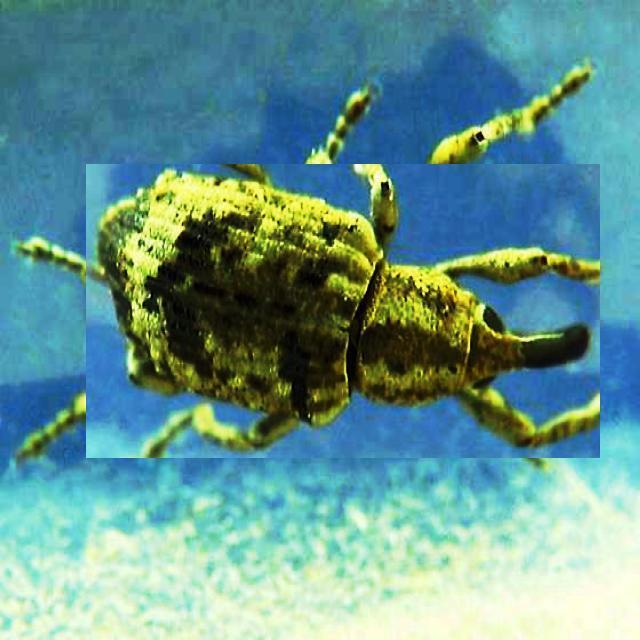rice-bug: (86, 164, 600, 458)
